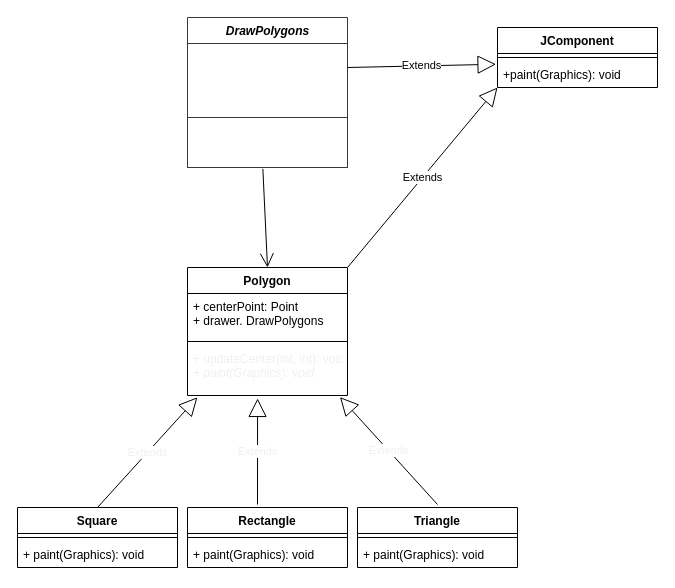
Some shapes in this 675 by 588 pixel diagram are drawn without their labels. The centre of each missing label's shape, as x and y in pixels:
+ polygons: Polygon [] + direction: boolean + ticker: int + frame: JFrame: (267,80)
+ update(): void + paint(Graphics): void: (267,142)
